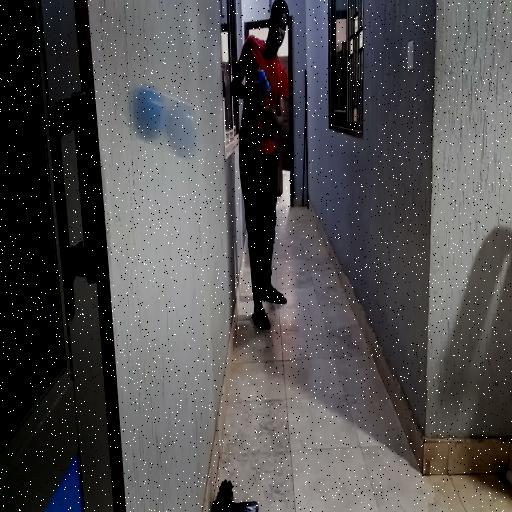plastic-ball: (129, 83, 197, 159)
